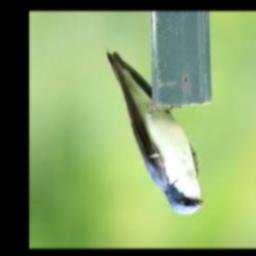Swallow: (106, 51, 206, 214)
